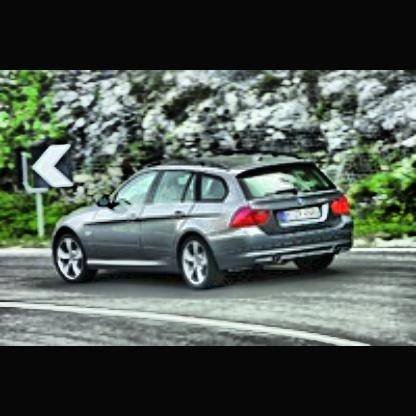BMW 3 Series Wagon 2012: (34, 130, 375, 317)
